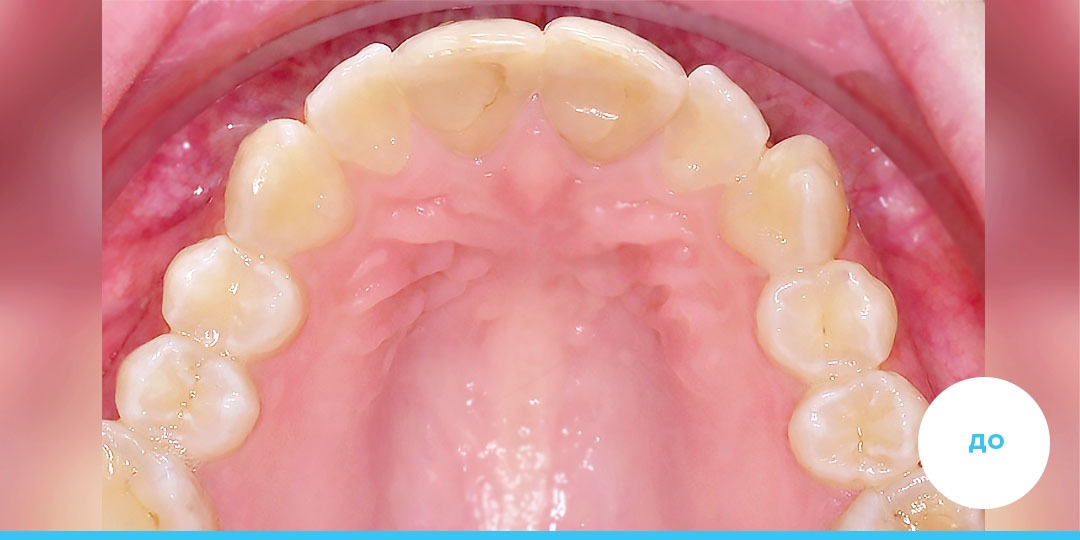UL1BC_healthy: (755, 268, 901, 380)
UL2BC_healthy: (784, 385, 912, 482)
ULCI_healthy: (548, 16, 679, 157)
ULC_healthy: (724, 135, 846, 273)
ULLI_healthy: (681, 68, 762, 183)
UR1BC_healthy: (163, 241, 305, 359)
UR2BC_healthy: (119, 342, 260, 461)
URCI_decay: (401, 18, 545, 148)
URC_healthy: (231, 123, 352, 254)
URLI_healthy: (310, 47, 408, 169)
